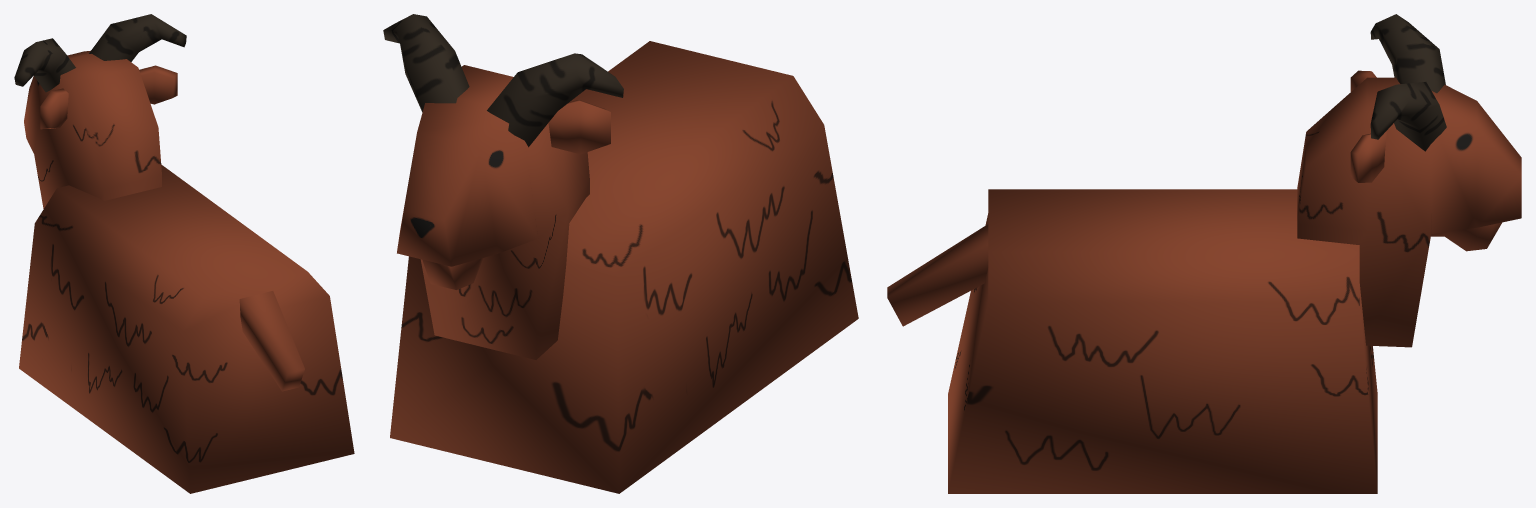
File: Goat.fbx
3 renders of one model, left to right at view 1: azimuth 30°, elevation 25°; view 2: azimuth 150°, elevation 25°; view 3: azimuth 270°, elevation 25°, orthographic. The views are drawn at different scales.
Parts seen in each view (by area): view 1: Goat; view 2: Goat; view 3: Goat.
Boxes of the visible parts, <box> form: Goat: <box>14,14,354,493</box>; Goat: <box>383,14,858,493</box>; Goat: <box>887,14,1521,493</box>.
Bounding box in the file's own units: 0.9724 × 1.7 × 2.48.
